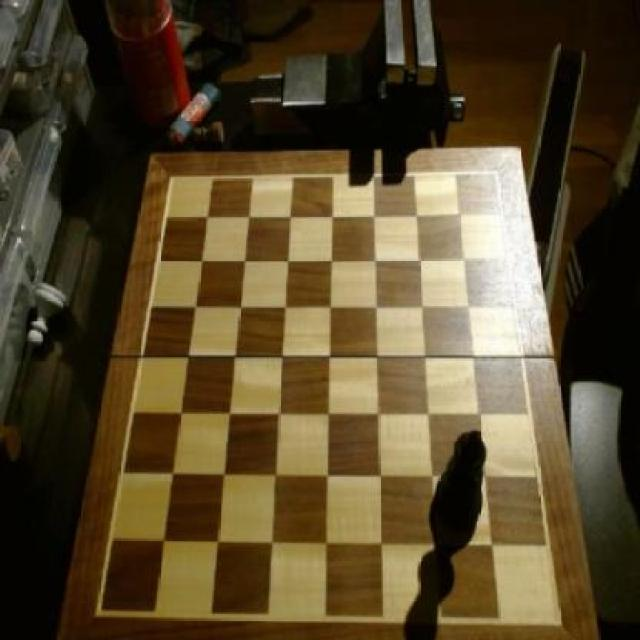black-bishop: (434, 429, 489, 530)
